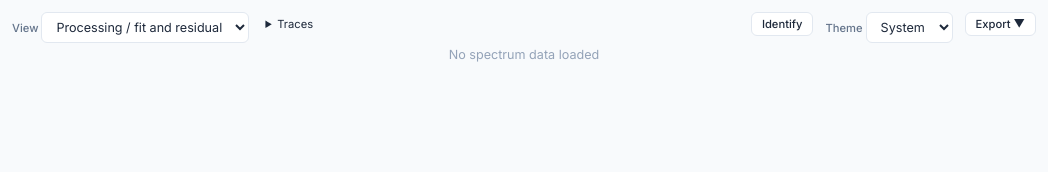
Test: Identification evidence › distinguishes scientific abstention from execution failure
Click the button "Identify": (782, 24) [751, 12, 814, 36]
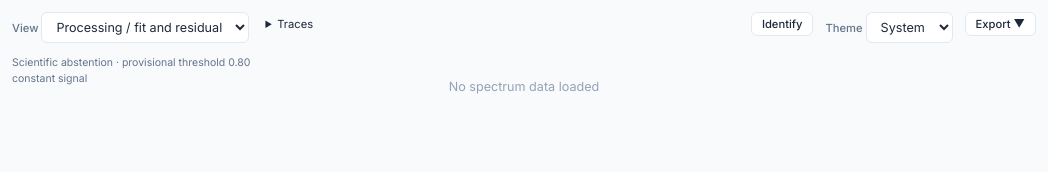
Expected: the text "Scientific abstention" is shown, [12, 56, 113, 69]
Expected: the text "constant signal" is shown, [12, 72, 87, 85]
Click the button "Identify": (782, 24) [751, 12, 814, 36]
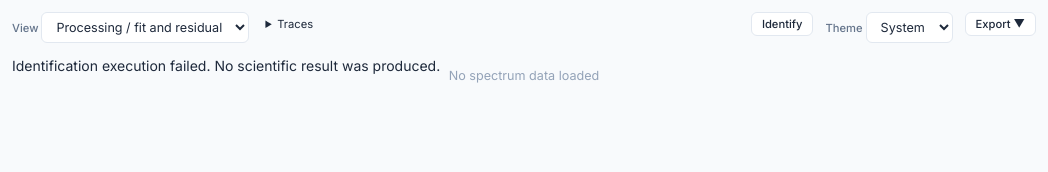
Expected: the message shows "execution failed", [12, 57, 440, 74]
Expected: the text "Scientific abstention" is gone
